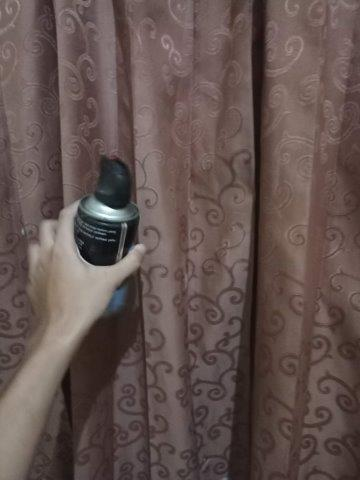kaleng: (74, 196, 140, 314)
